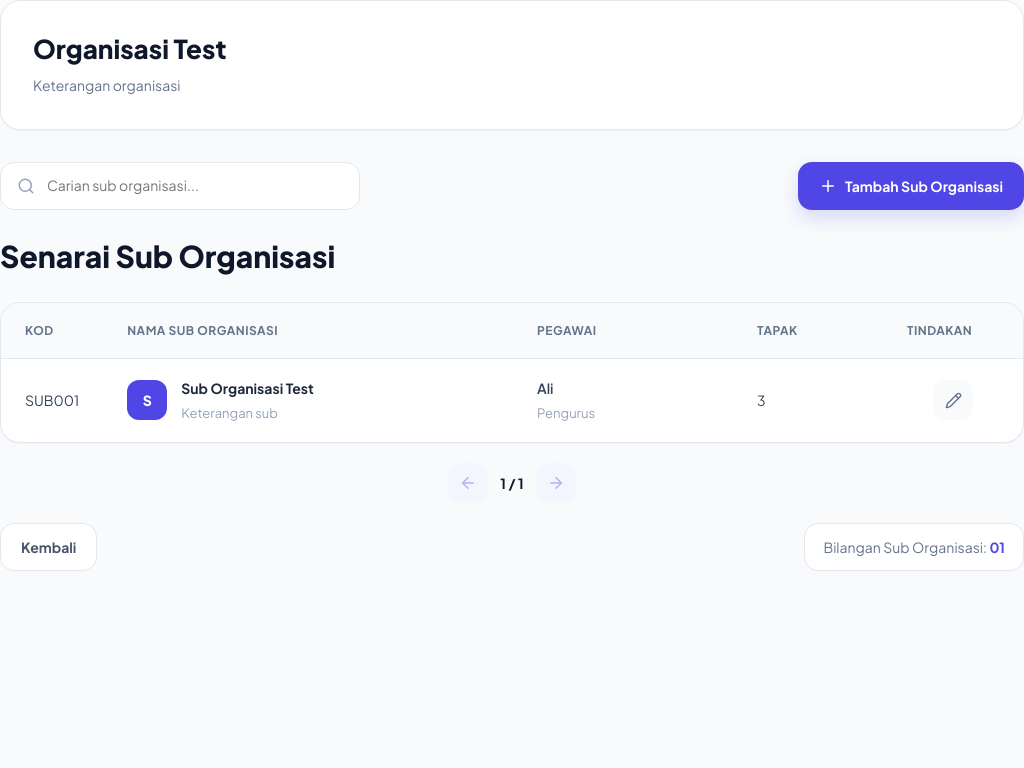
Test case: SubOrganisasiPage.vue › membuka modal edit sub organisasi
Click the button with class "ui-icon-button" at (953, 400), box x1=933 y1=380 x2=973 y2=420
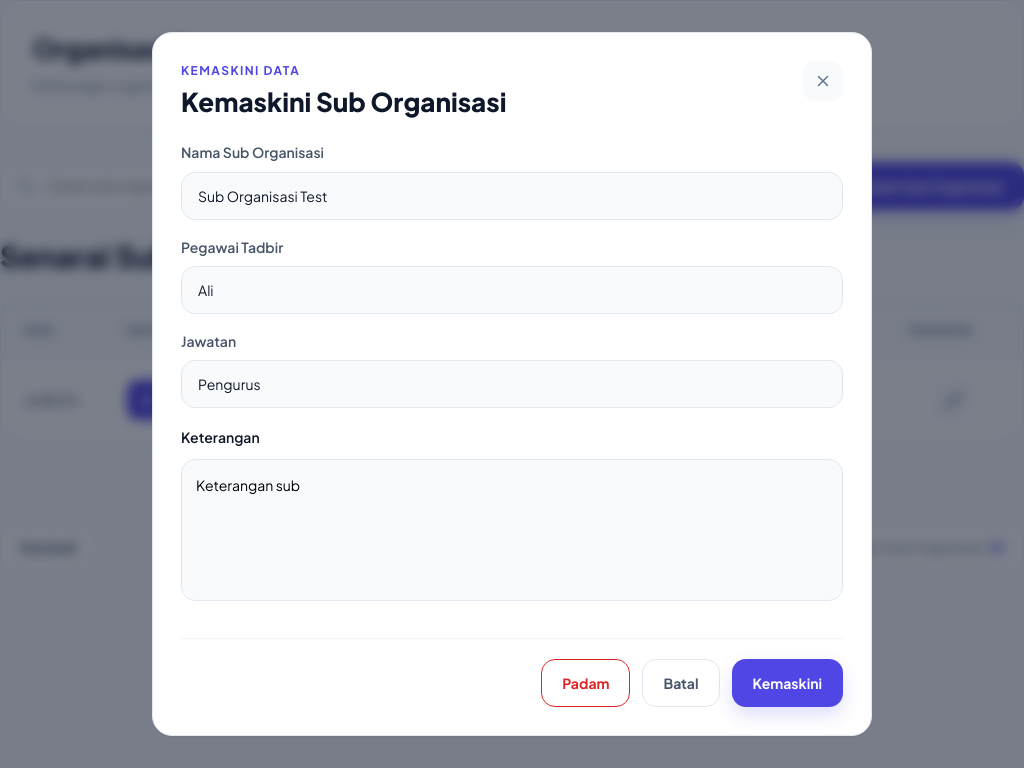
Check: the text "Kemaskini Sub Organisasi" is shown, box x1=181 y1=86 x2=506 y2=117
